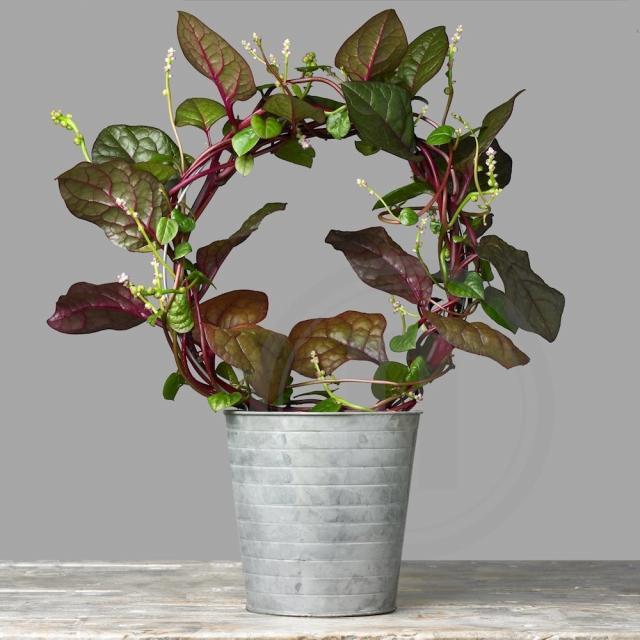Medicinal-Basale: (26, 7, 619, 408)
